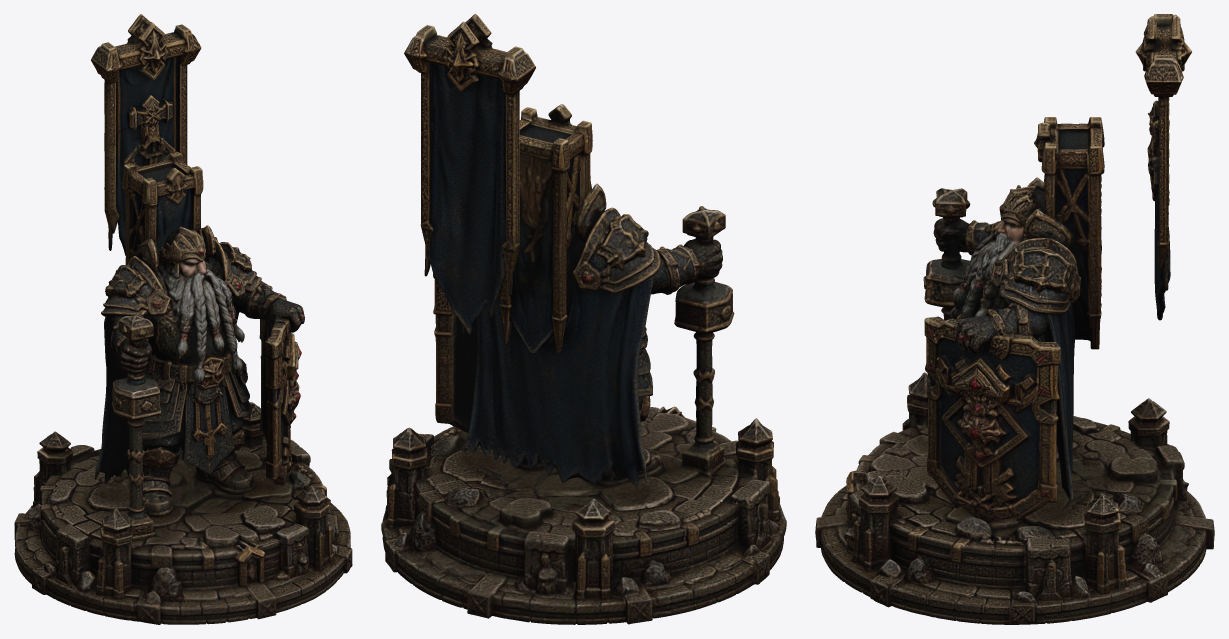
Rendered from Дорвальд.glb.
The picture shows the model from 3 angles, left to right: view 1: azimuth 30°, elevation 25°; view 2: azimuth 150°, elevation 25°; view 3: azimuth 270°, elevation 25°; orthographic projection. The views are drawn at different scales.
Parts seen in each view (by area): view 1: tripo_node_555d85fd-d2e2-438d-992e-f23d52eef541; view 2: tripo_node_555d85fd-d2e2-438d-992e-f23d52eef541; view 3: tripo_node_555d85fd-d2e2-438d-992e-f23d52eef541.
Part boxes in pixels (box(x1,y1,x2,y2)): tripo_node_555d85fd-d2e2-438d-992e-f23d52eef541: box(14, 14, 352, 624); tripo_node_555d85fd-d2e2-438d-992e-f23d52eef541: box(381, 14, 786, 624); tripo_node_555d85fd-d2e2-438d-992e-f23d52eef541: box(815, 14, 1214, 624).
Bounding box in the file's own units: 0.647 × 1 × 0.6631.
Materials: 1 (1 with a texture image).
